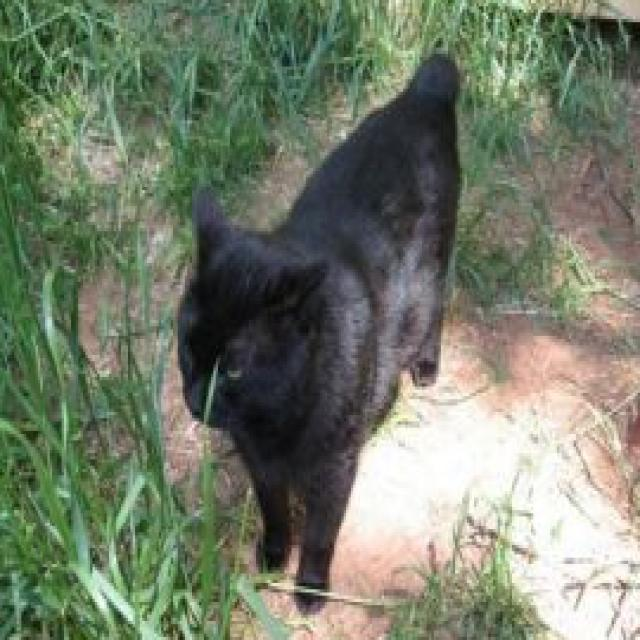American Bobtail: (172, 48, 466, 608)
